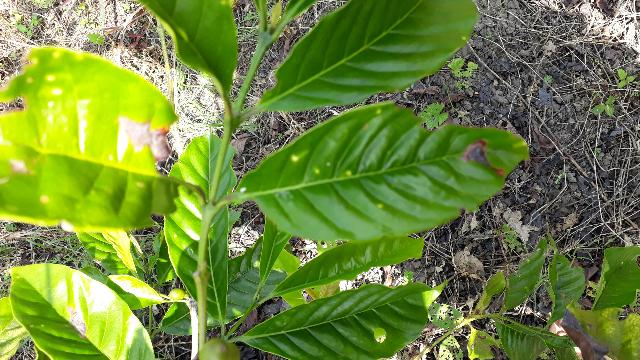rust_level_1: (238, 102, 528, 239)
